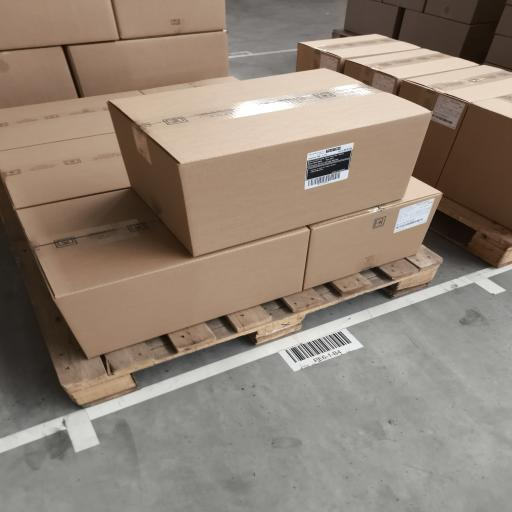pallet: (0, 187, 442, 406), (430, 197, 511, 267), (332, 29, 359, 38)
